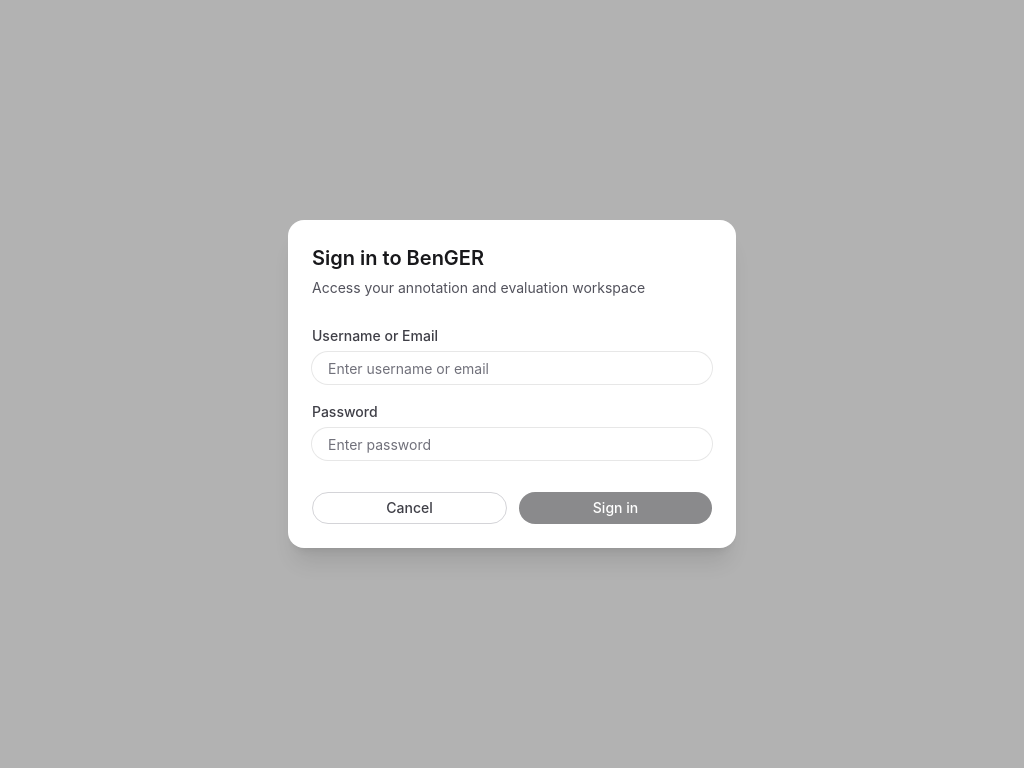
Test: LoginModal › Authentication Flow › shows loading state during authentication
The image size is (1024, 768).
Type "test@example.com" into the field labelled "Username or Email" at (512, 368), box [312, 352, 712, 384]
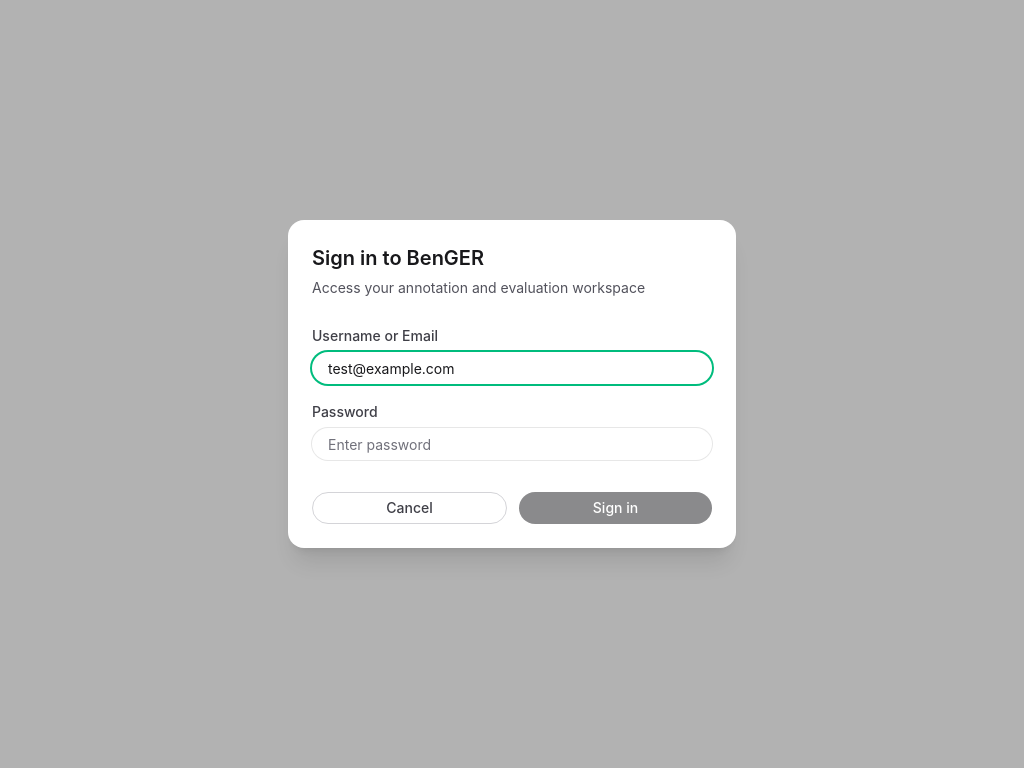
Type "password123" into the password field labelled "Password" at (512, 444), box [312, 428, 712, 460]
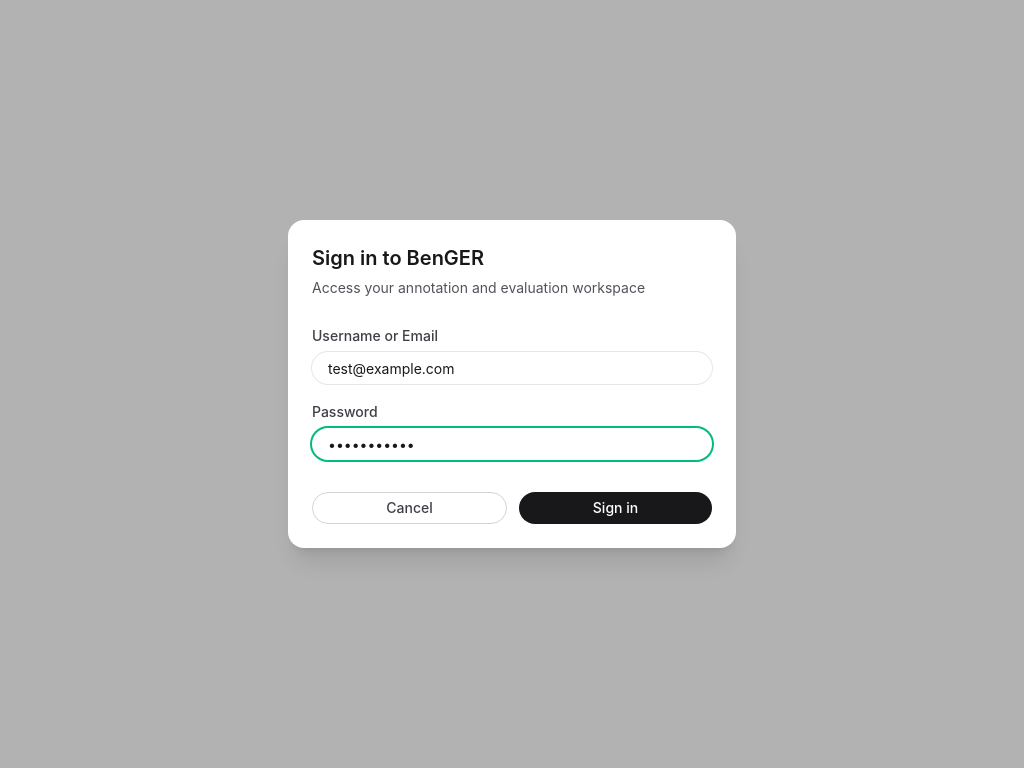
Click the button "Sign in" at (616, 508), box [519, 492, 712, 524]
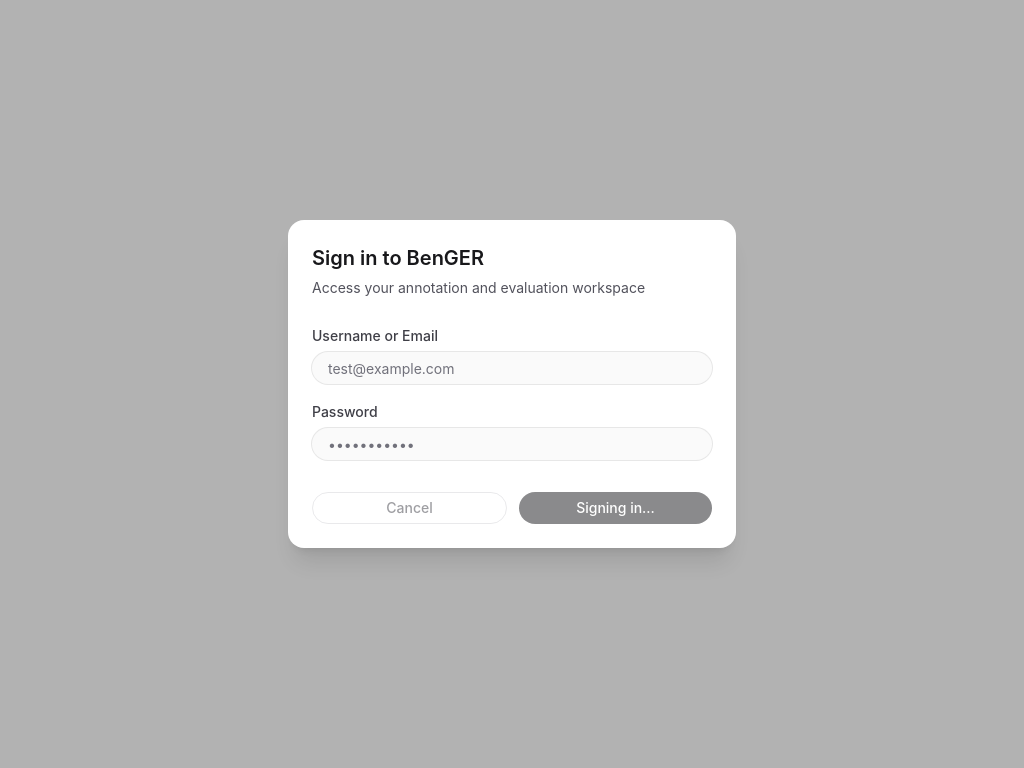
Now the button "Signing in..." is disabled, box [519, 492, 712, 524]
Now the field labelled "Username or Email" is disabled, box [312, 352, 712, 384]
Now the password field labelled "Password" is disabled, box [312, 428, 712, 460]
